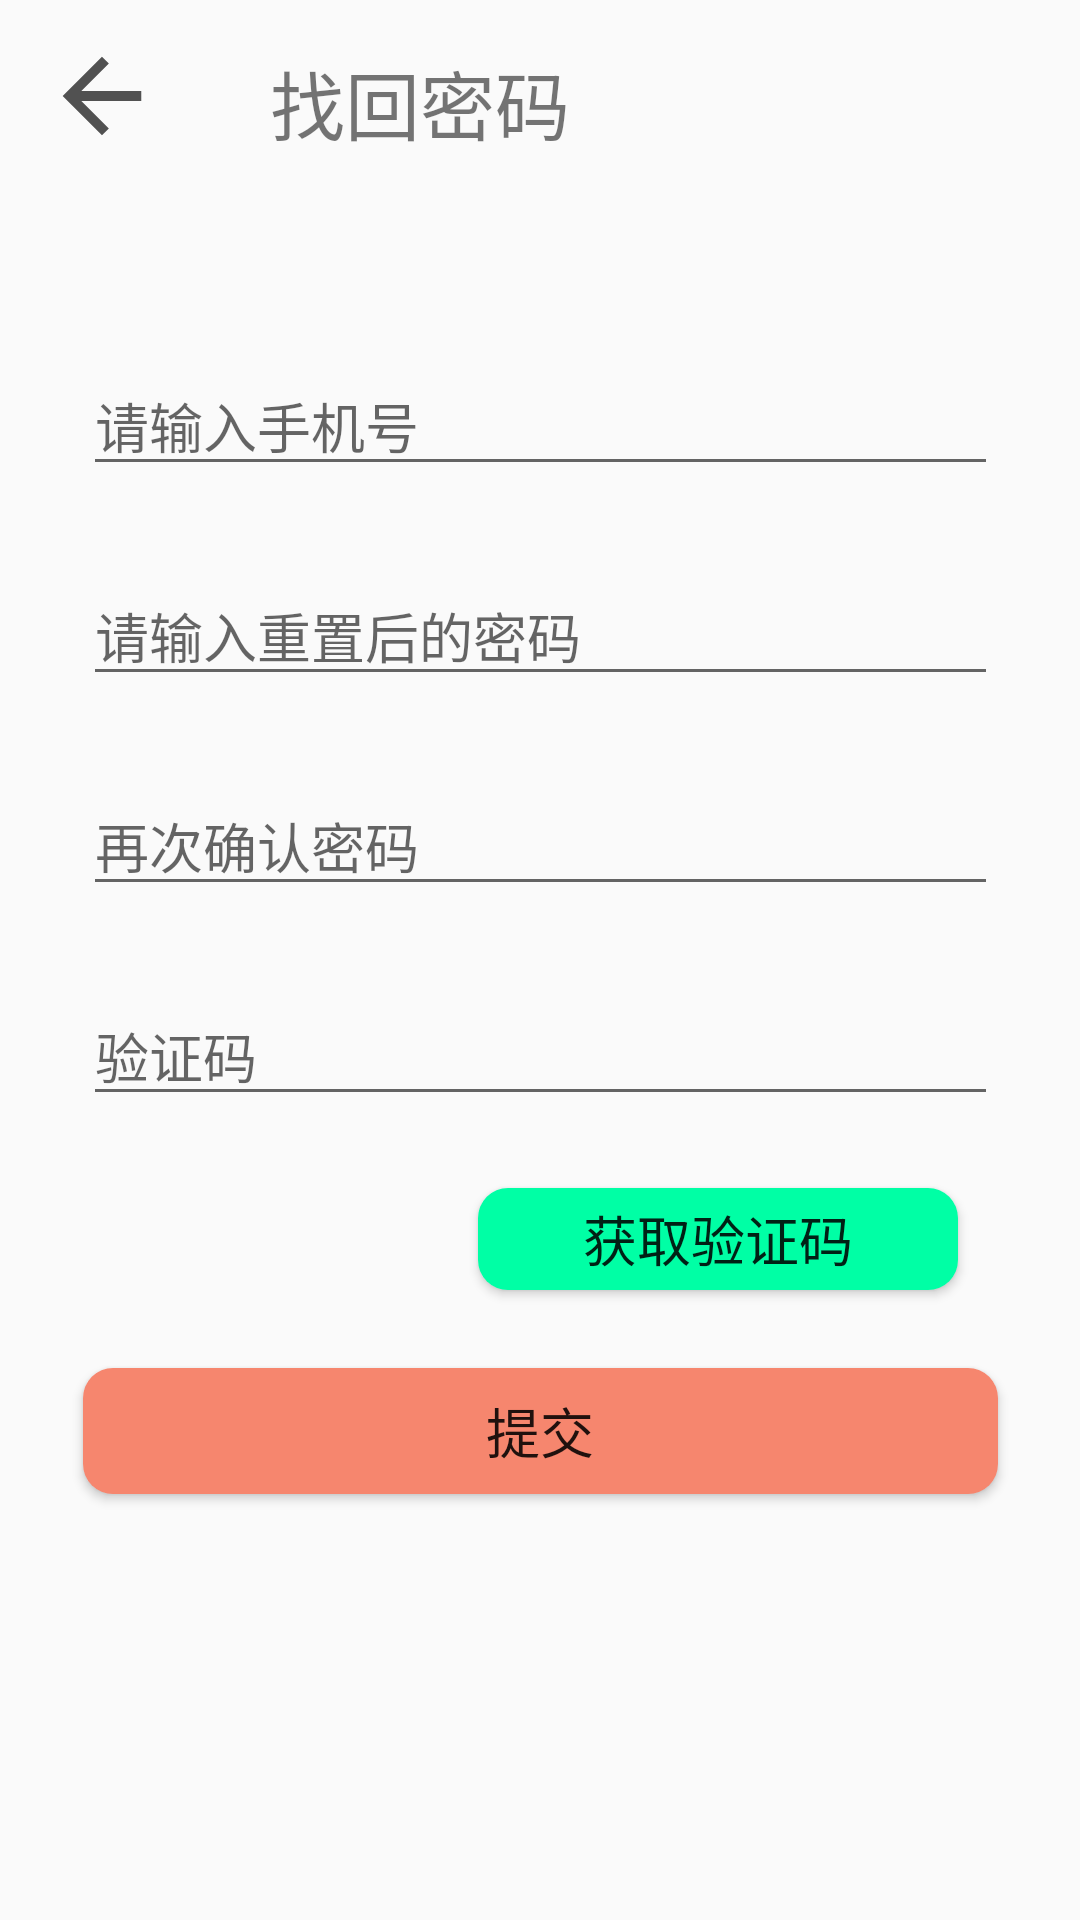

Screen size 1080×1920. Icon name, then its box in pixels as (left=x1, top=y1, right=x2, bottom=y2):
back: (left=63, top=57, right=142, bottom=135)
